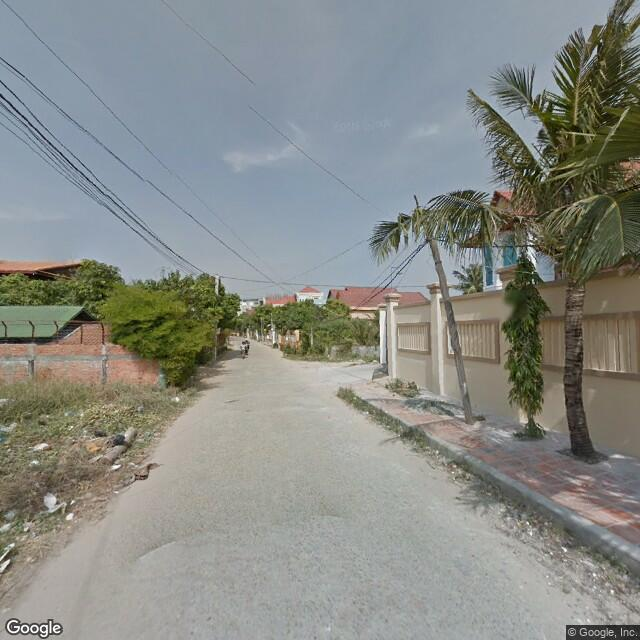litter: (80, 431, 138, 459), (25, 442, 54, 470), (116, 468, 157, 482), (39, 493, 67, 511), (168, 395, 185, 405)
